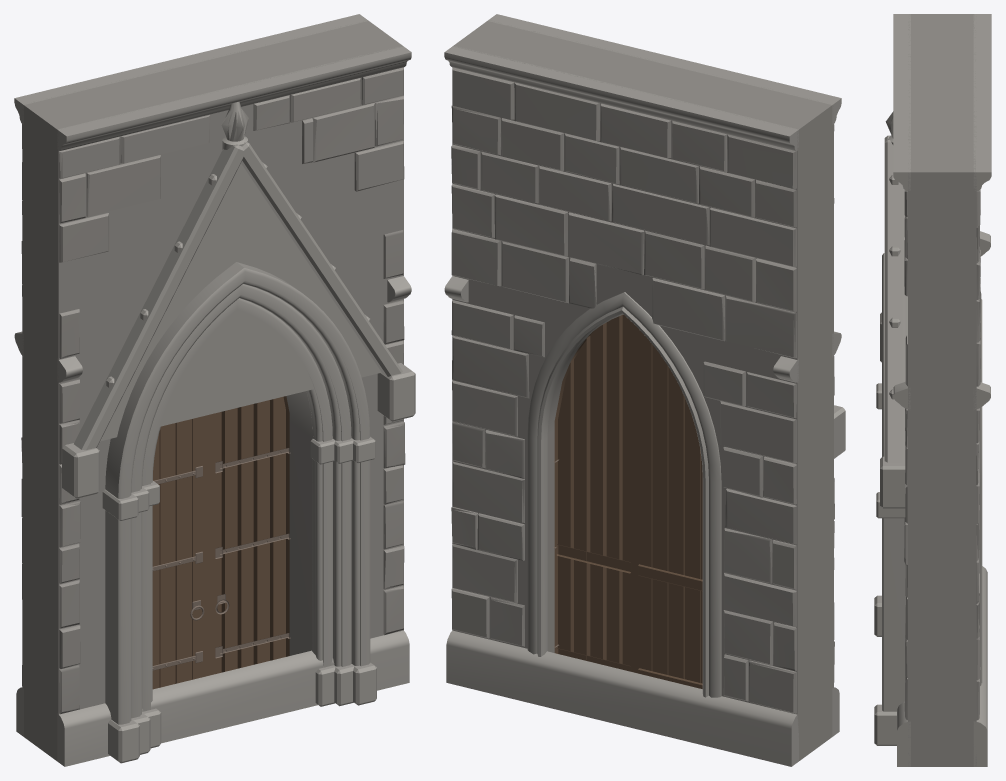
File: doorway_gothic.glb
3 renders of one model, left to right at view 1: azimuth 30°, elevation 25°; view 2: azimuth 150°, elevation 25°; view 3: azimuth 270°, elevation 25°, orthographic. The views are drawn at different scales.
Visible parts, largest first — view 1: doorway_gothic, door_R, door_L; view 2: doorway_gothic, door_R, door_L; view 3: doorway_gothic.
Part boxes in pixels (x1=…): doorway_gothic: x1=14, y1=14, x2=415, y2=766; door_R: x1=208, y1=396, x2=290, y2=675; door_L: x1=152, y1=415, x2=207, y2=689; doorway_gothic: x1=444, y1=14, x2=845, y2=766; door_R: x1=553, y1=314, x2=635, y2=672; door_L: x1=636, y1=326, x2=702, y2=688; doorway_gothic: x1=874, y1=14, x2=991, y2=766.
Size of the model in its own units: 4 by 7 by 1.25.
